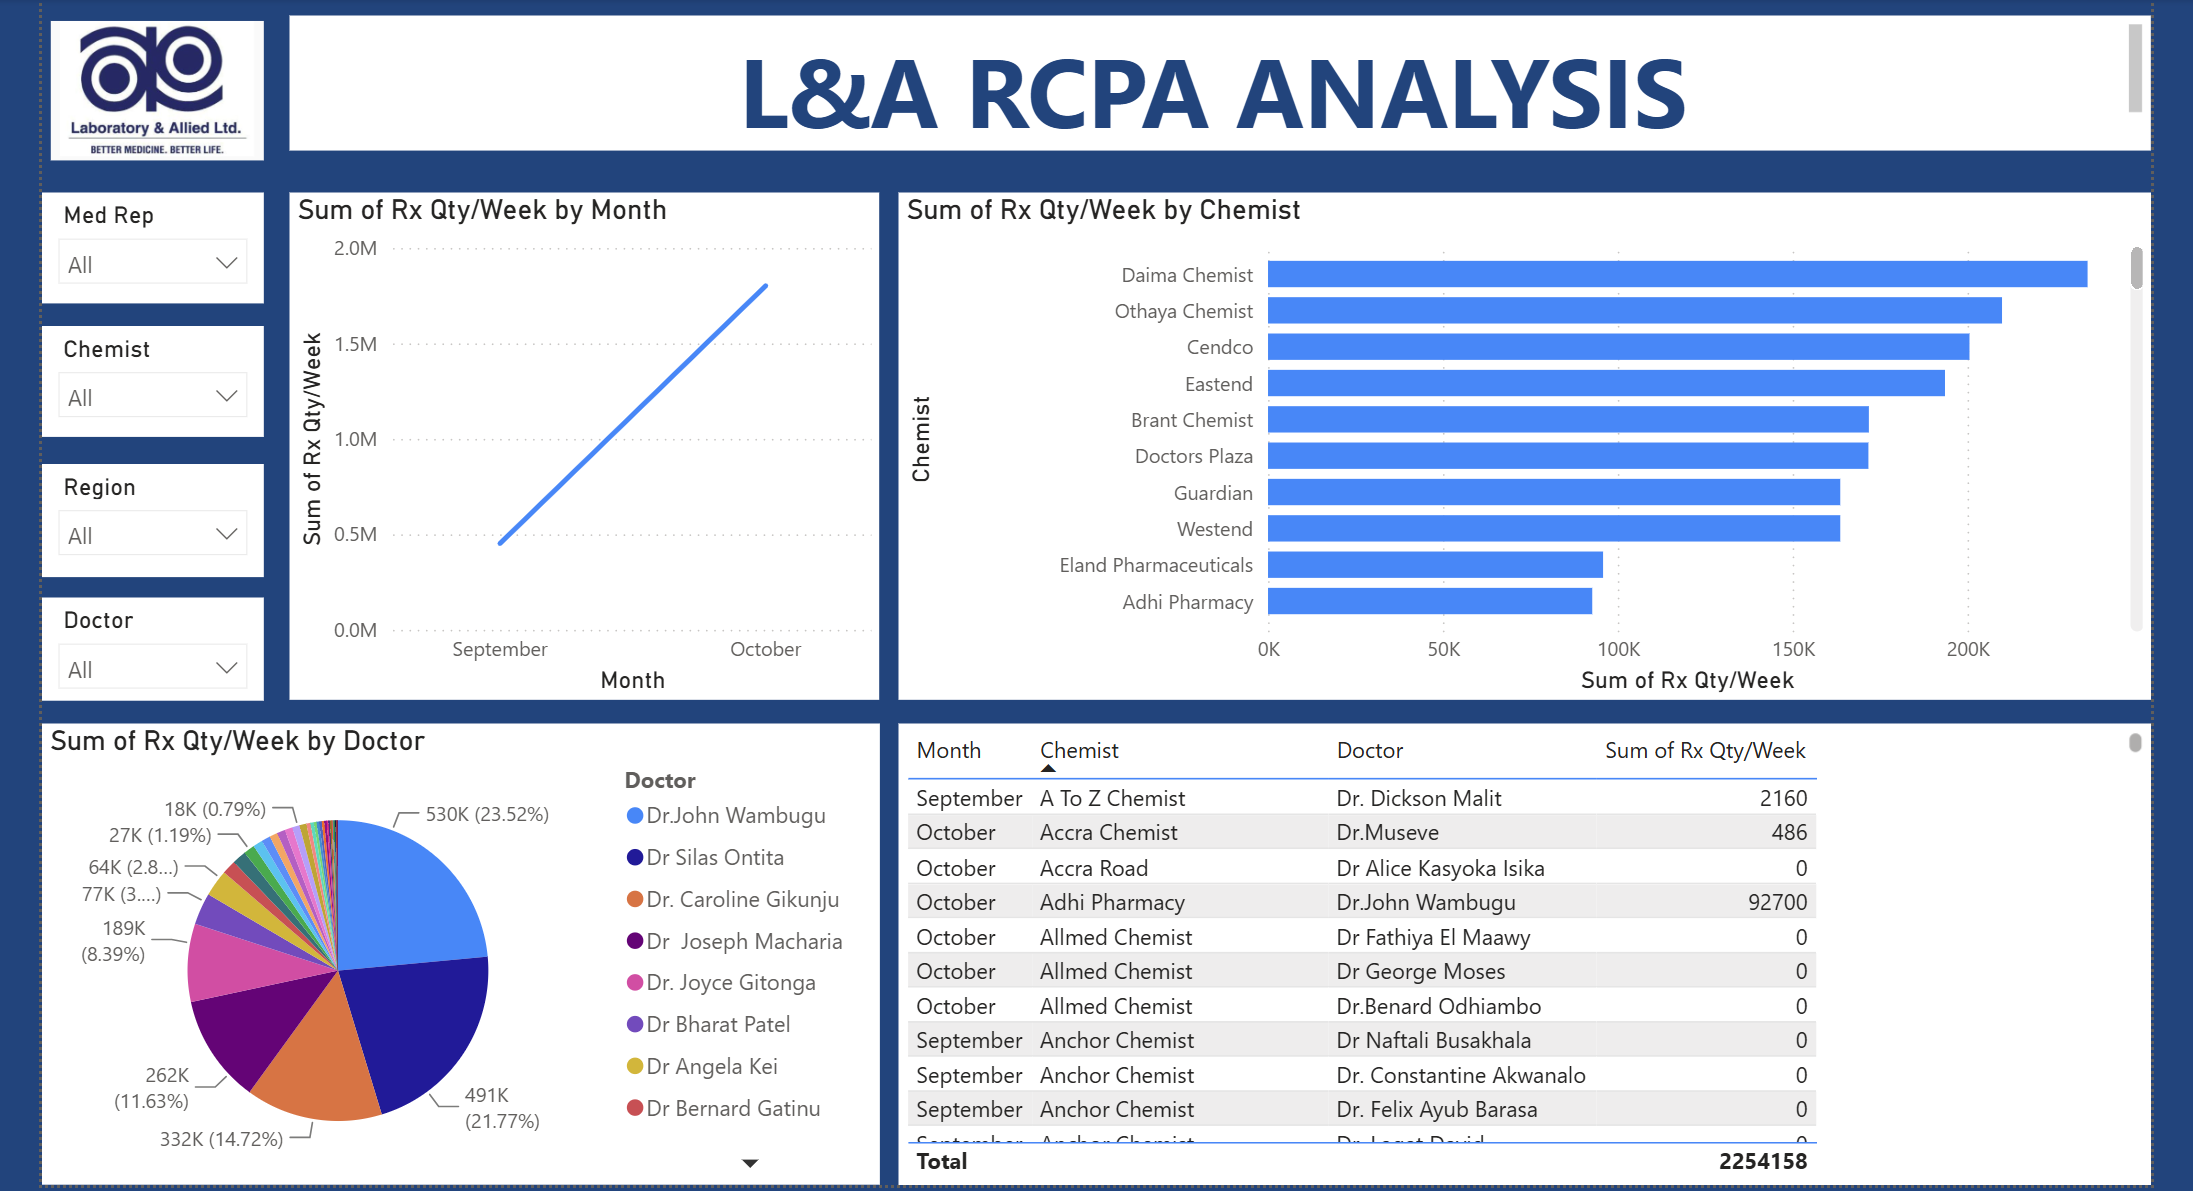

The dashboard page shown, as its layout file describes it:
{"tool":"powerbi","page":{"name":"RCPA ANALYSIS DASHBOARD","canvas":[1280,720],"ordinal":0},"visuals":[{"type":"slicer","fields":{"Values":["FULL RCPA.Chemist"]},"box":[0,198.1,134.5,67.3],"z":0},{"type":"slicer","fields":{"Values":["FULL RCPA.Doctor"]},"box":[0,363.2,134.5,62.4],"z":1000},{"type":"slicer","fields":{"Values":["FULL RCPA.Region"]},"box":[0,282.5,134.5,68.5],"z":2000},{"type":"lineChart","fields":{"Y":["Sum(FULL RCPA.Rx Qty/Week)"],"Category":["FULL RCPA.Date.Variation.Date Hierarchy.Month"]},"box":[150.4,117.4,358.3,308.2],"z":3000},{"type":"tableEx","fields":{"Values":["FULL RCPA.Date.Variation.Date Hierarchy.Month","FULL RCPA.Chemist","FULL RCPA.Doctor","Sum(FULL RCPA.Rx Qty/Week)"]},"box":[519.7,440.2,760.6,280],"z":4000},{"type":"barChart","fields":{"Y":["Sum(FULL RCPA.Rx Qty/Week)"],"Category":["FULL RCPA.Chemist"]},"box":[519.7,117.4,760.6,308.2],"z":5000},{"type":"pieChart","fields":{"Y":["Sum(FULL RCPA.Rx Qty/Week)"],"Category":["FULL RCPA.Doctor"]},"box":[0,440.2,508.7,280],"z":6000},{"type":"textbox","box":[150.4,9.8,1129.9,81.9],"z":7000},{"type":"image","box":[0,0,139.4,111.3],"z":8000},{"type":"slicer","fields":{"Values":["FULL RCPA.Med Rep"]},"box":[0,117.4,134.5,67.3],"z":9000}]}

Visuals, with their boxes in screenshot pixels (x1, y1, x2, y2):
slicer - FULL RCPA.Chemist: BBox(40, 324, 260, 434)
slicer - FULL RCPA.Doctor: BBox(40, 594, 260, 696)
slicer - FULL RCPA.Region: BBox(40, 462, 260, 574)
lineChart - Sum(FULL RCPA.Rx Qty/Week) x FULL RCPA.Date.Variation.Date Hierarchy.Month: BBox(286, 192, 872, 696)
tableEx - FULL RCPA.Date.Variation.Date Hierarchy.Month x FULL RCPA.Chemist: BBox(890, 720, 2133, 1177)
barChart - Sum(FULL RCPA.Rx Qty/Week) x FULL RCPA.Chemist: BBox(890, 192, 2133, 696)
pieChart - Sum(FULL RCPA.Rx Qty/Week) x FULL RCPA.Doctor: BBox(40, 720, 872, 1177)
textbox: BBox(286, 16, 2133, 150)
image: BBox(40, 0, 268, 182)
slicer - FULL RCPA.Med Rep: BBox(40, 192, 260, 302)
